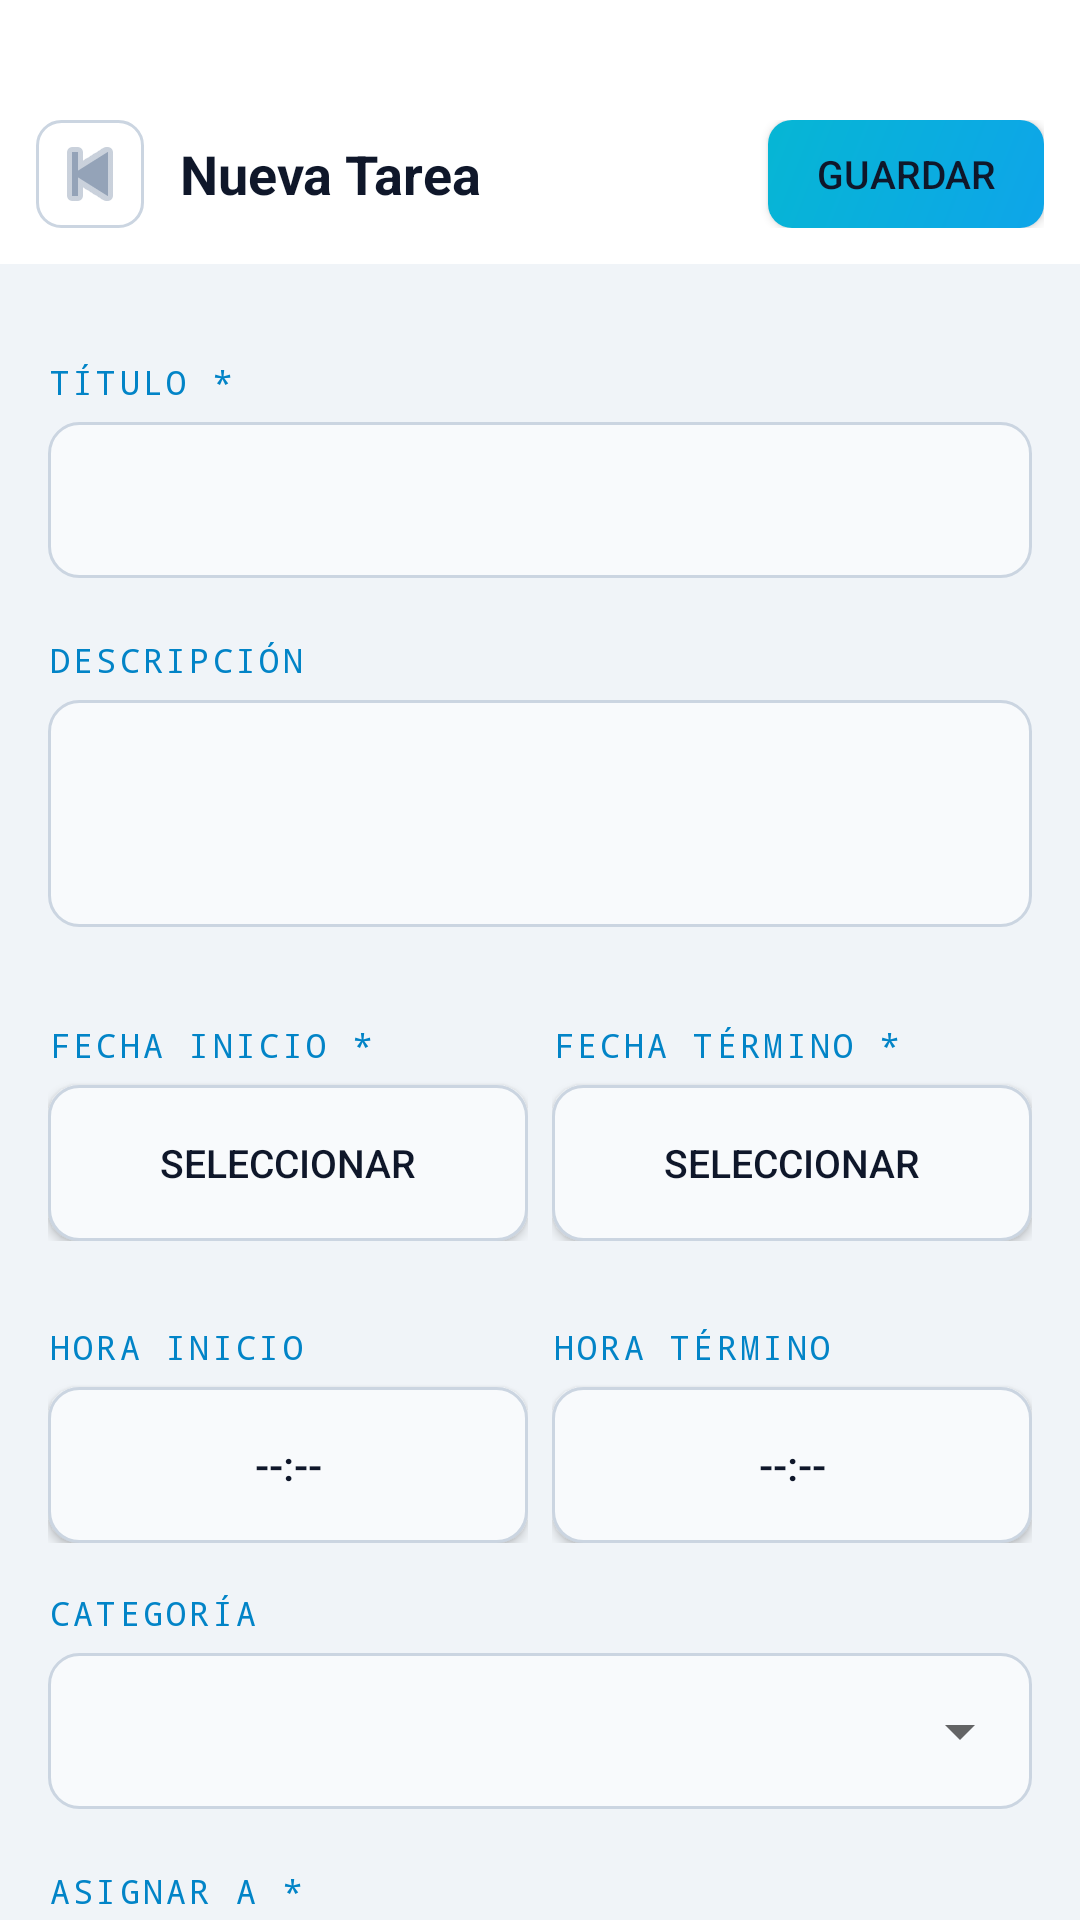

Icon bounding boxes for this 1080 x 1920 phone screenshot, format [left=x1, top=y1, right=x2, bottom=y2]:
previous: [left=36, top=120, right=144, bottom=228]
